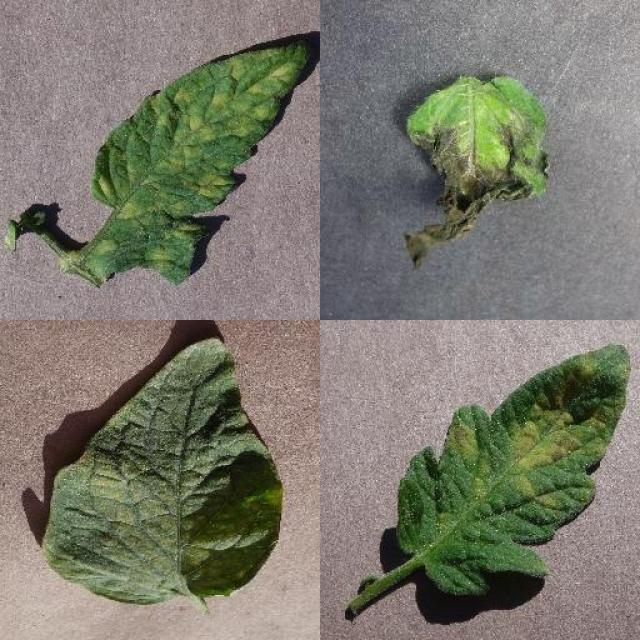Late Blight: (404, 74, 554, 274)
